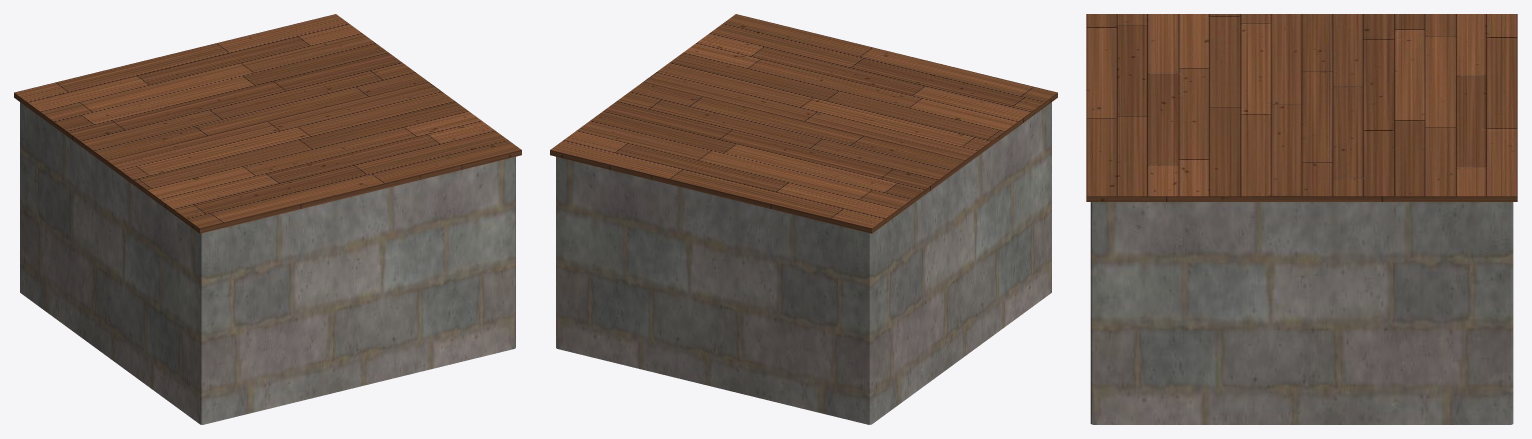
File: floor_wood.glb
3 views of the same model, side by side, from view 1: azimuth 30°, elevation 25°; view 2: azimuth 150°, elevation 25°; view 3: azimuth 270°, elevation 25° (orthographic). The views are drawn at different scales.
Parts seen in each view (by area): view 1: floor_wood_granite, floor_wood_wood; view 2: floor_wood_granite, floor_wood_wood; view 3: floor_wood_granite, floor_wood_wood.
Part boxes in pixels (box(x1,y1,x2,y2)): floor_wood_granite: box(20, 102, 515, 424); floor_wood_wood: box(14, 14, 521, 233); floor_wood_granite: box(556, 102, 1051, 424); floor_wood_wood: box(550, 14, 1057, 233); floor_wood_granite: box(1090, 202, 1513, 424); floor_wood_wood: box(1086, 14, 1517, 201).
Bounding box in the file's own units: 2 × 1.18 × 2.
2 materials, 2 textured.
